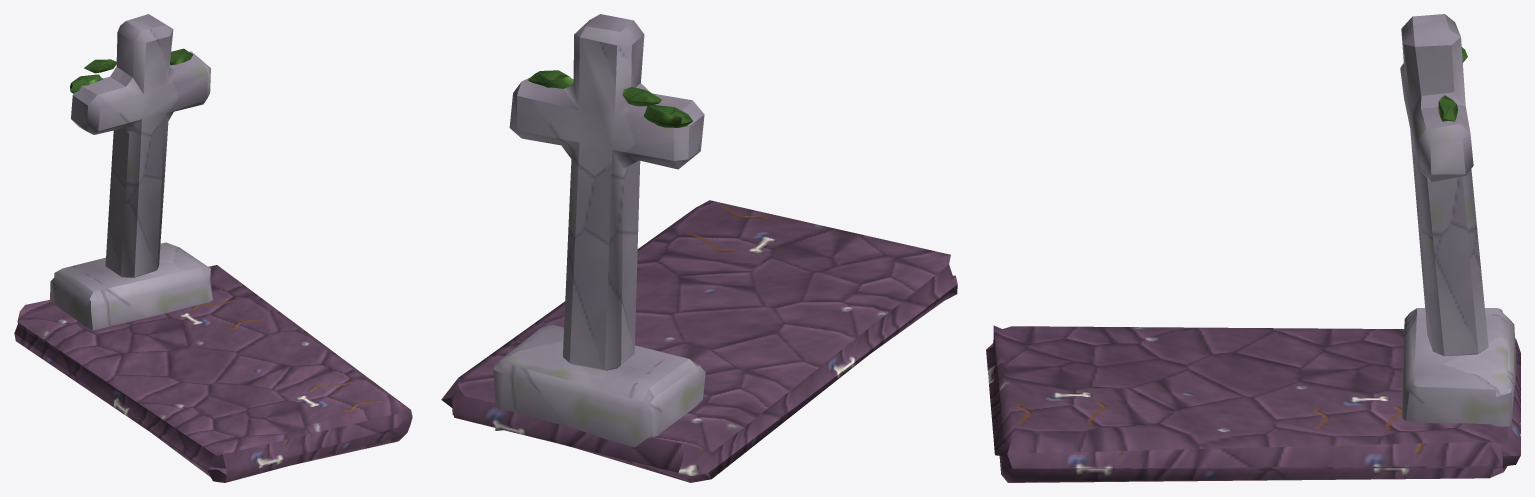
The model's file is gravestone_cross.gltf.
The picture shows the model from 3 angles, left to right: view 1: azimuth 30°, elevation 25°; view 2: azimuth 150°, elevation 25°; view 3: azimuth 270°, elevation 25°; orthographic projection. The views are drawn at different scales.
Parts seen in each view (by area): view 1: gravestone_cross_mesh; view 2: gravestone_cross_mesh; view 3: gravestone_cross_mesh.
Part boxes in pixels (x1,y1,x2,y2): gravestone_cross_mesh: [14, 14, 412, 482]; gravestone_cross_mesh: [441, 14, 957, 482]; gravestone_cross_mesh: [986, 14, 1520, 482].
Size of what is drawn, in the model's own units: 0.8209 by 1.21 by 1.44.
3 materials, 3 textured.
